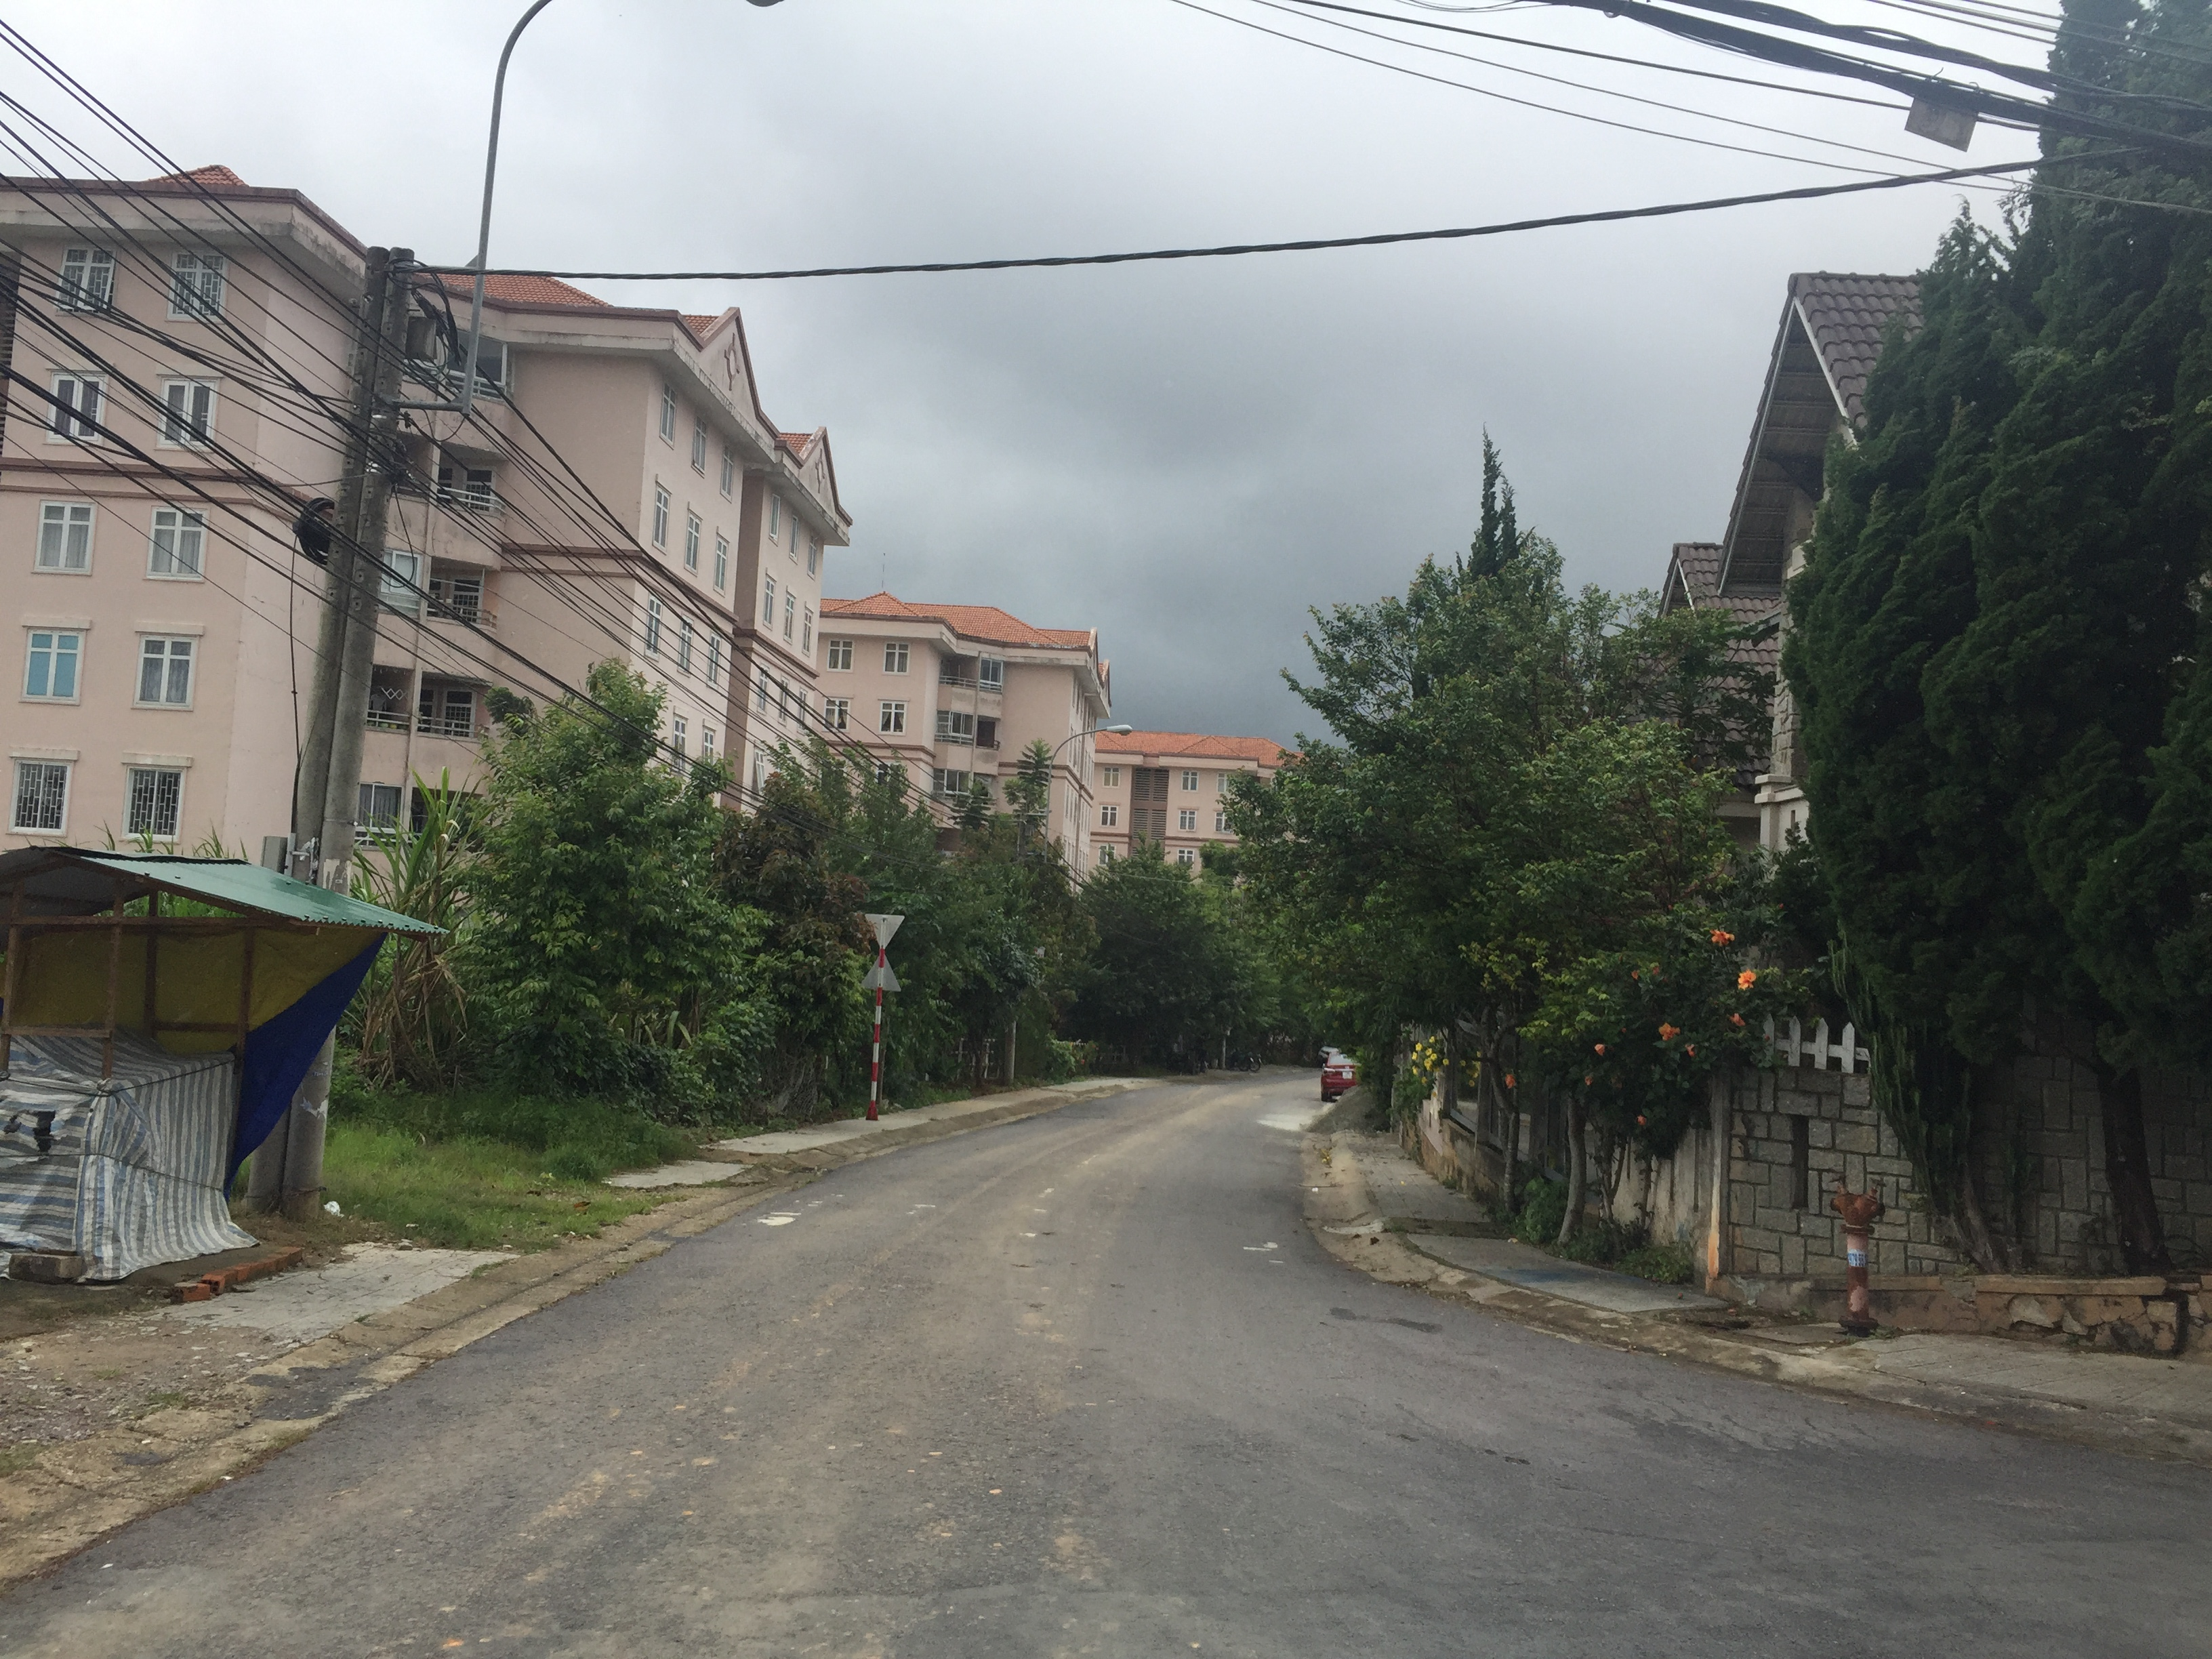hole: (1390, 1431, 1418, 1443), (1503, 1453, 1527, 1464), (1028, 1302, 1050, 1310), (1010, 1262, 1035, 1269), (1484, 1448, 1498, 1457), (1038, 1232, 1057, 1237), (1108, 1284, 1125, 1288)
